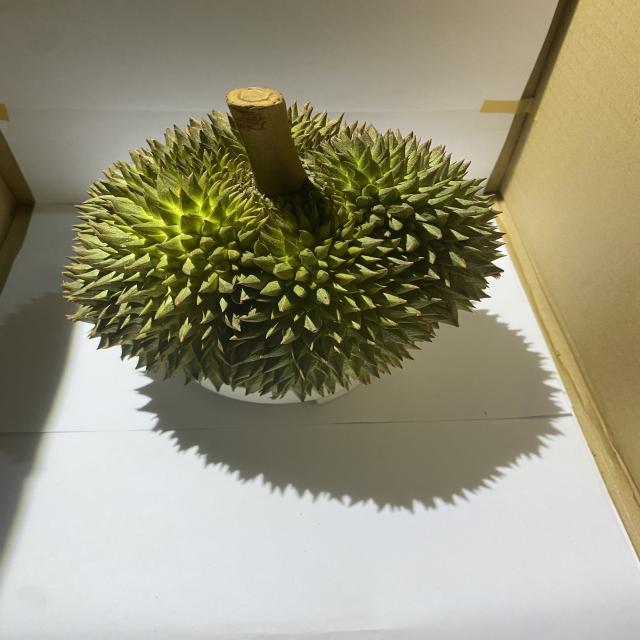immature: (56, 103, 513, 404)
